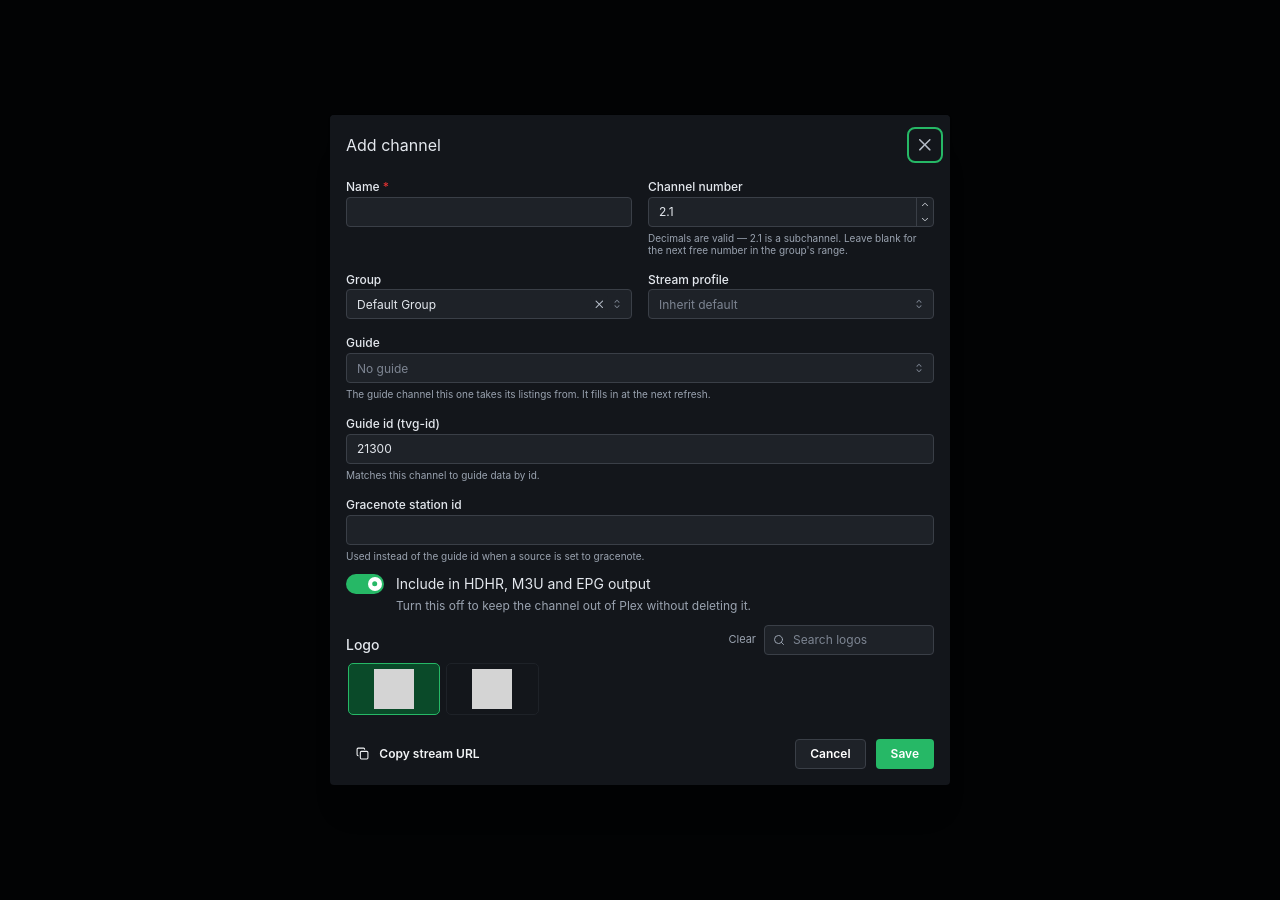
it: channel editor › requires a name
Click the button "Save".
click(905, 754)  # box [876,739,934,769]
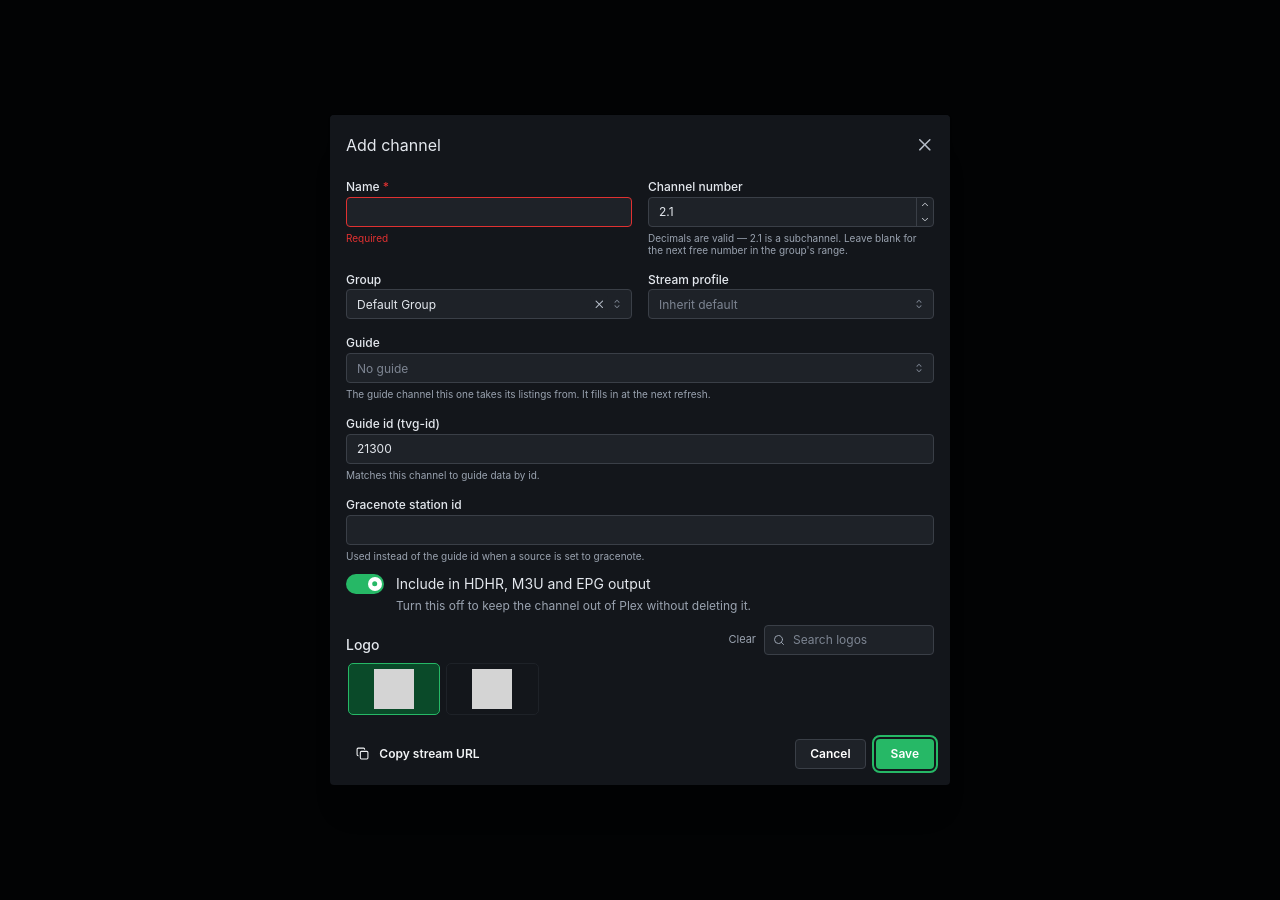
expect the text "Required" is shown: met, box [346,232,388,244]
